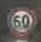limite 60: (5, 5, 39, 37)
